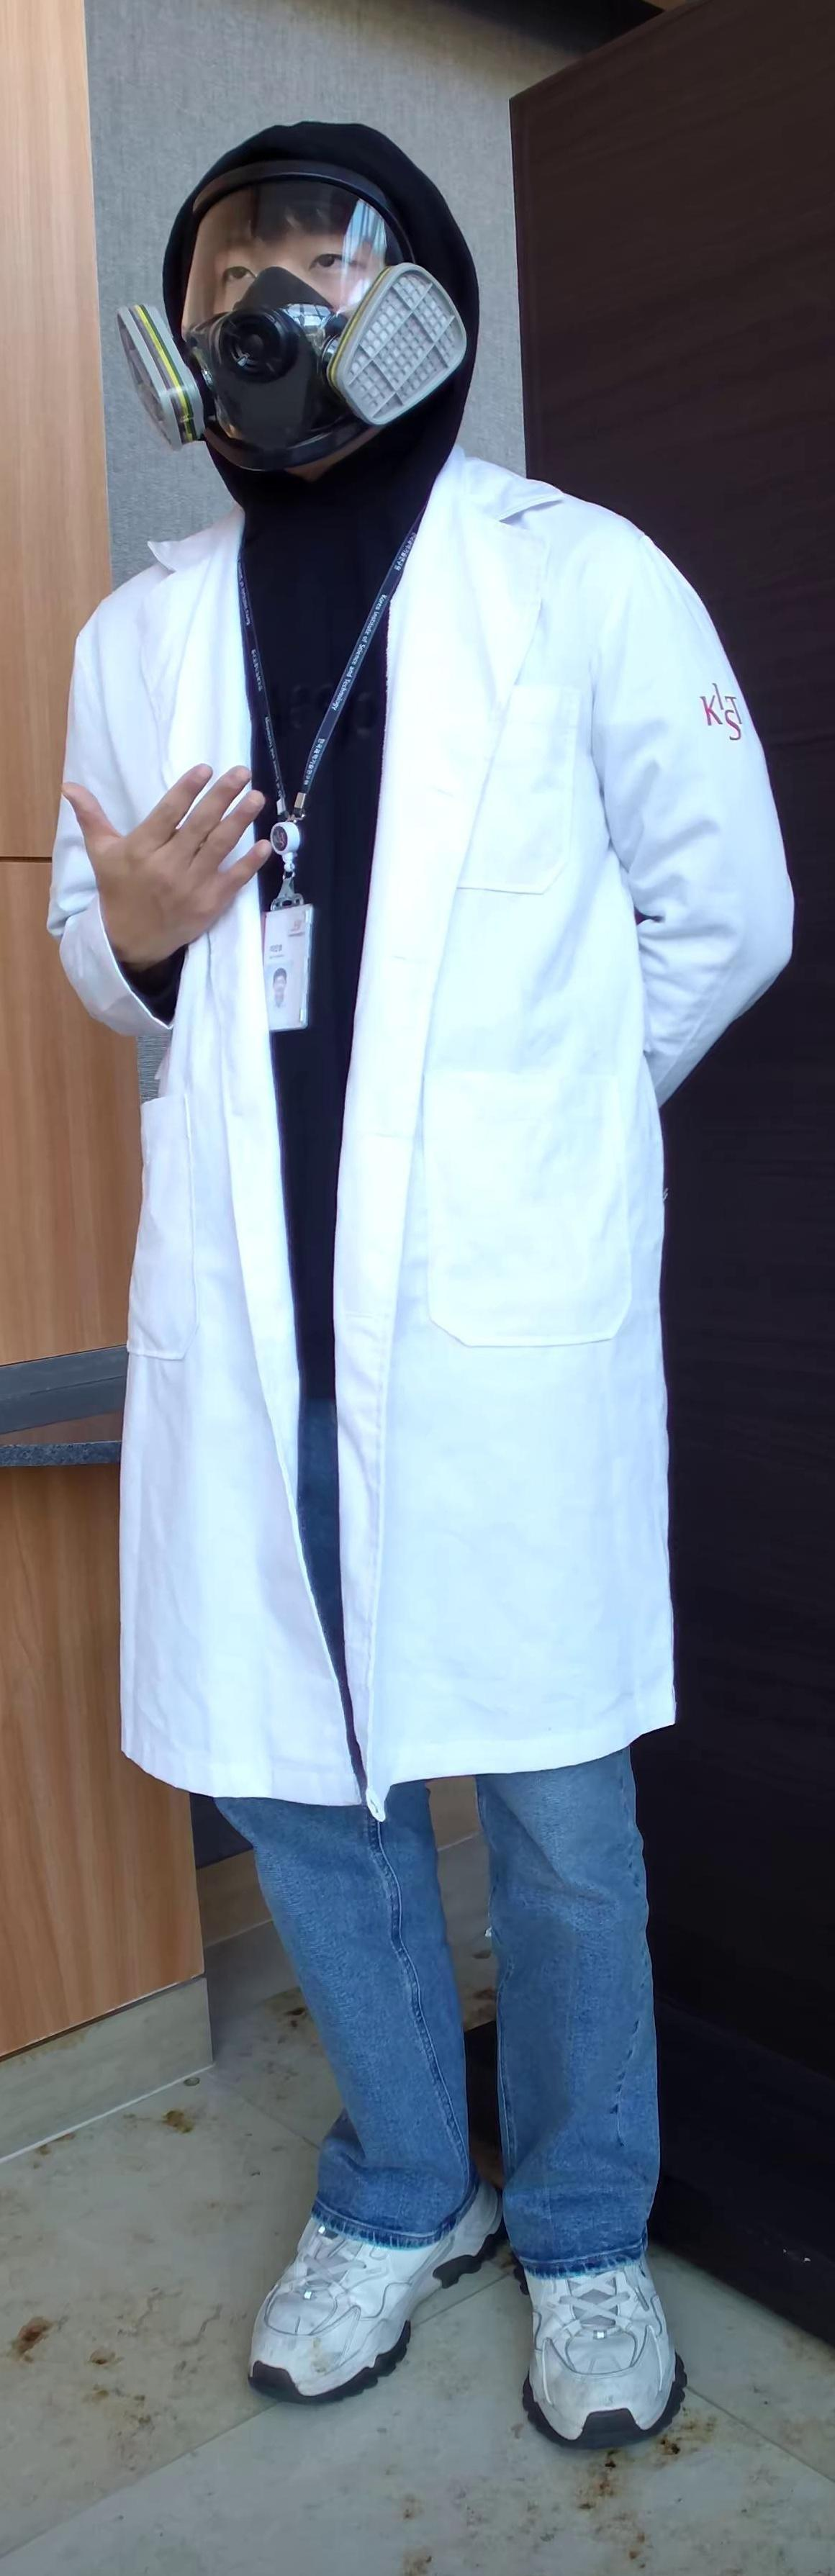lab_coat: (191, 483, 743, 1745)
